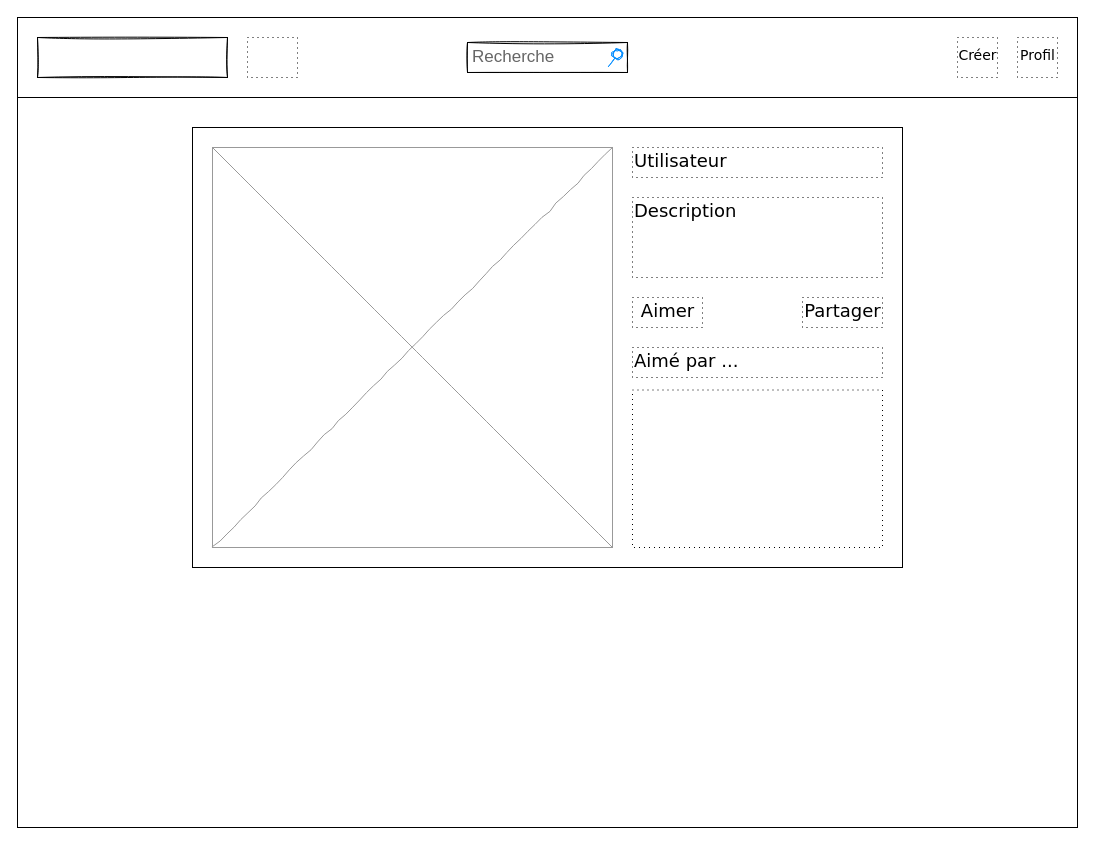
This 1096x845 diagram has some shape labels left out. Each missing label, with the centre of its shape:
Accueil: [272,57]
Commentaires: [757,468]
Image: [412,347]
LOGO: [132,57]
